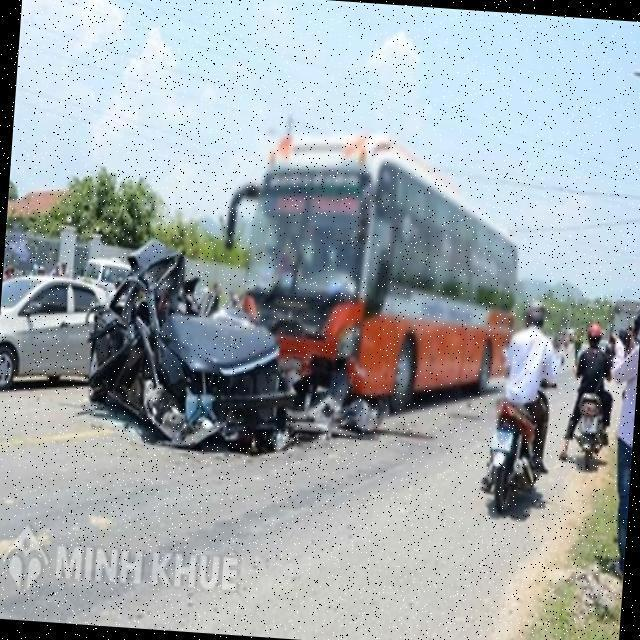accident: (58, 216, 394, 479)
